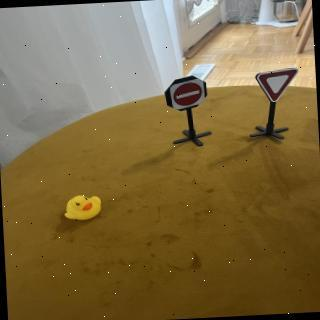duck_regular: (62, 194, 105, 223)
sign_noentry: (169, 77, 209, 112)
sign_yield: (256, 67, 302, 105)
